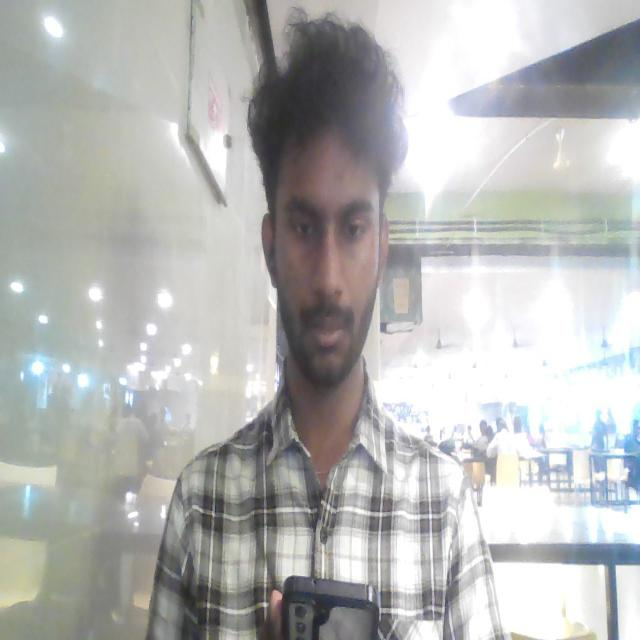phone: (282, 576, 380, 640)
